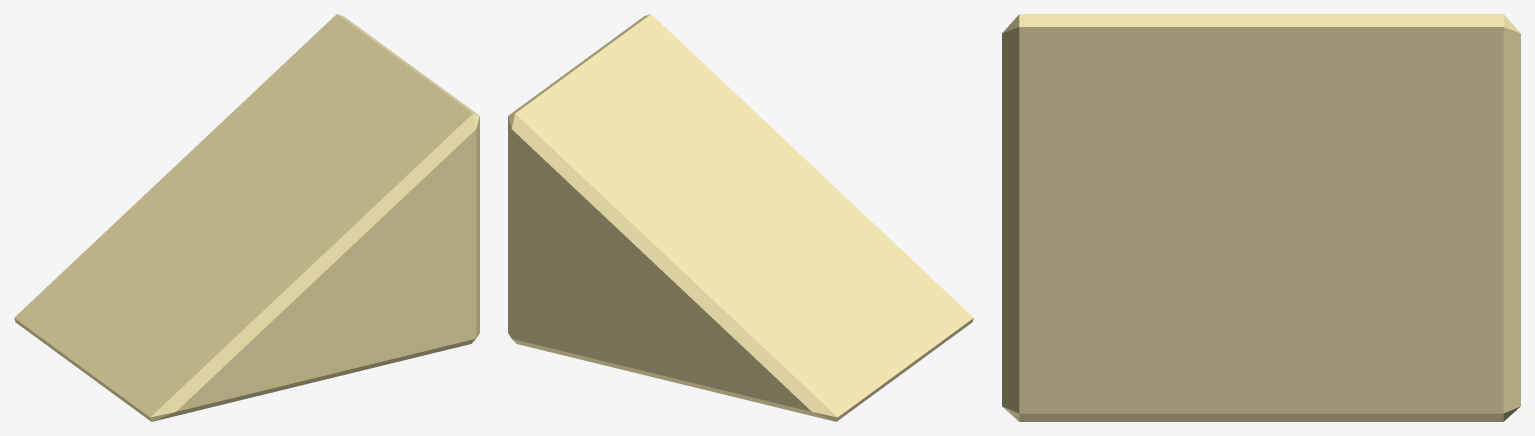
The model's file is SM_Cheese_Wedge.fbx.
3 renders of one model, left to right at view 1: azimuth 30°, elevation 25°; view 2: azimuth 150°, elevation 25°; view 3: azimuth 270°, elevation 25°, orthographic. The views are drawn at different scales.
Parts seen in each view (by area): view 1: Cheese_Wedge; view 2: Cheese_Wedge; view 3: Cheese_Wedge.
Part boxes in pixels (x1,y1,x2,y2): Cheese_Wedge: (14, 14, 479, 421); Cheese_Wedge: (508, 14, 973, 421); Cheese_Wedge: (1002, 14, 1520, 421).
Size of the model in its own units: 23.5 by 15.67 by 18.
